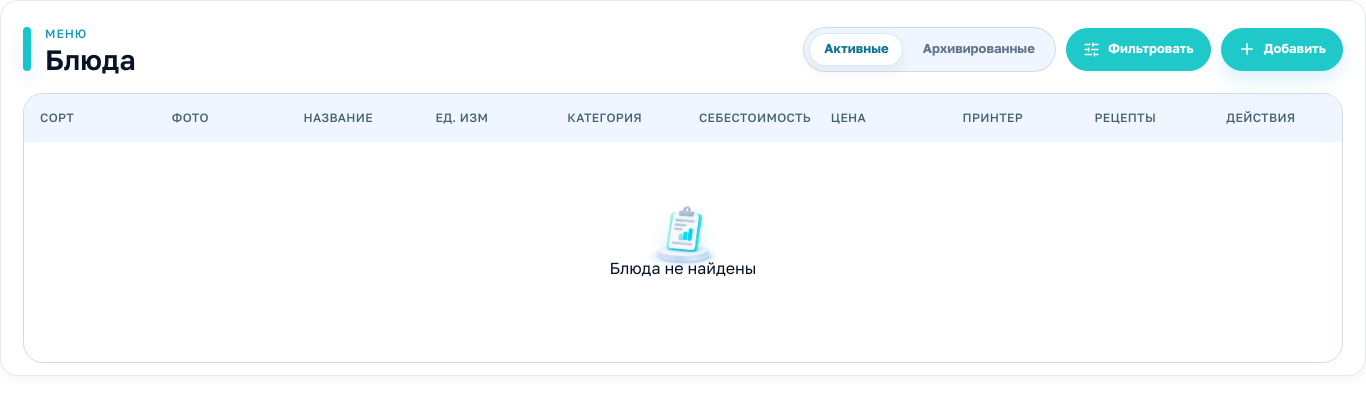
it: DISHES status tabs Active/Archived › switches to Архивированные and shows only archived dishes
expect the table named "Блюда" is shown: met, box [24, 94, 1342, 142]
Click the tab "Архивированные" at x=979, y=49, box [908, 32, 1050, 66]
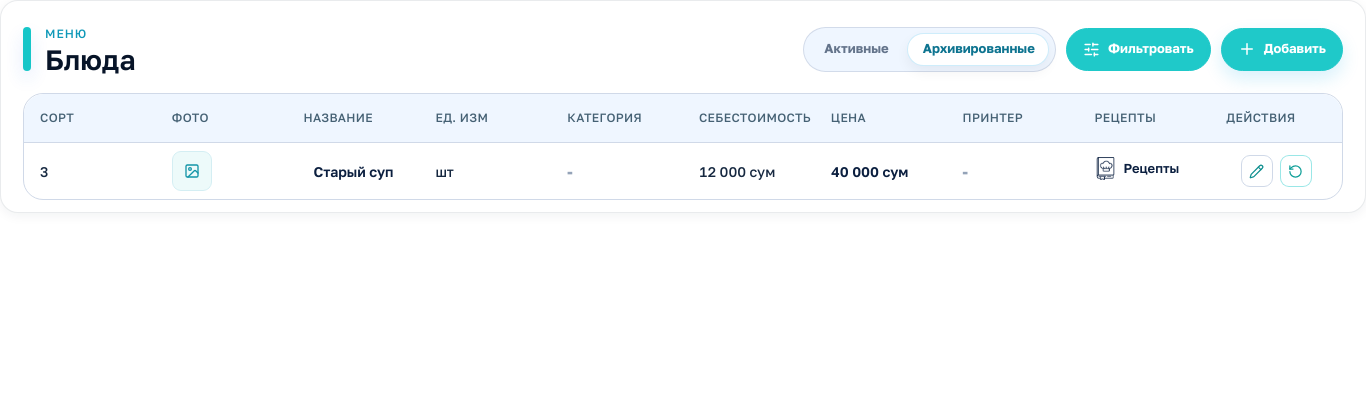
expect the table named "Блюда" shows "Старый суп": met, box [314, 162, 394, 180]
